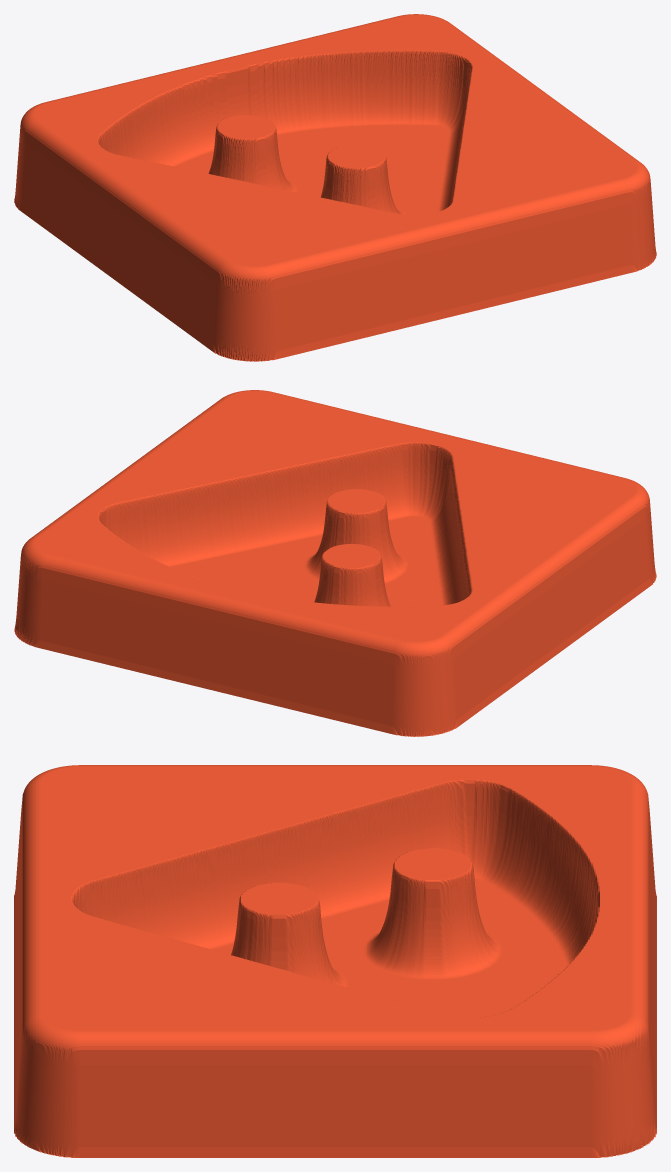
Rendered from mold.glb.
3 views of the same model, one above another, from view 1: azimuth 30°, elevation 25°; view 2: azimuth 150°, elevation 25°; view 3: azimuth 270°, elevation 25° (orthographic). The views are drawn at different scales.
Parts seen in each view (by area): view 1: geometry_0; view 2: geometry_0; view 3: geometry_0.
Boxes of the visible parts, left/top/right/bottom form: geometry_0: left=14, top=14, right=656, bottom=361; geometry_0: left=14, top=390, right=656, bottom=736; geometry_0: left=14, top=765, right=656, bottom=1157.
Bounding box in the file's own units: 0.0924 × 0.0175 × 0.0878.
